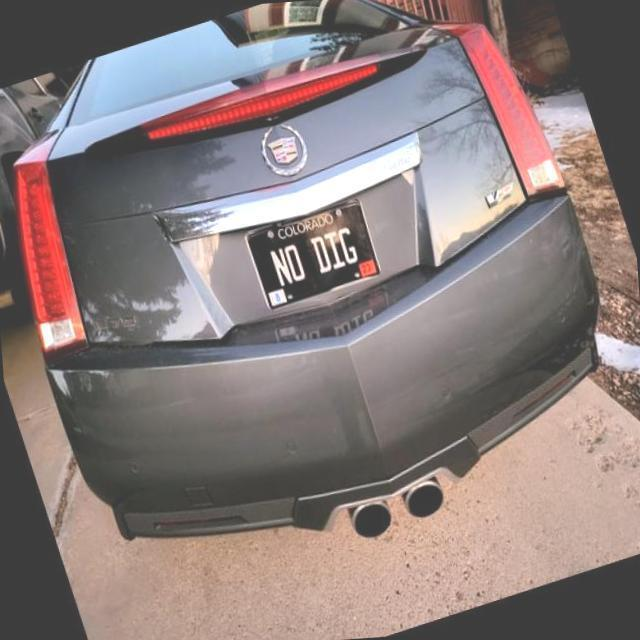license-plate: (249, 190, 376, 304)
